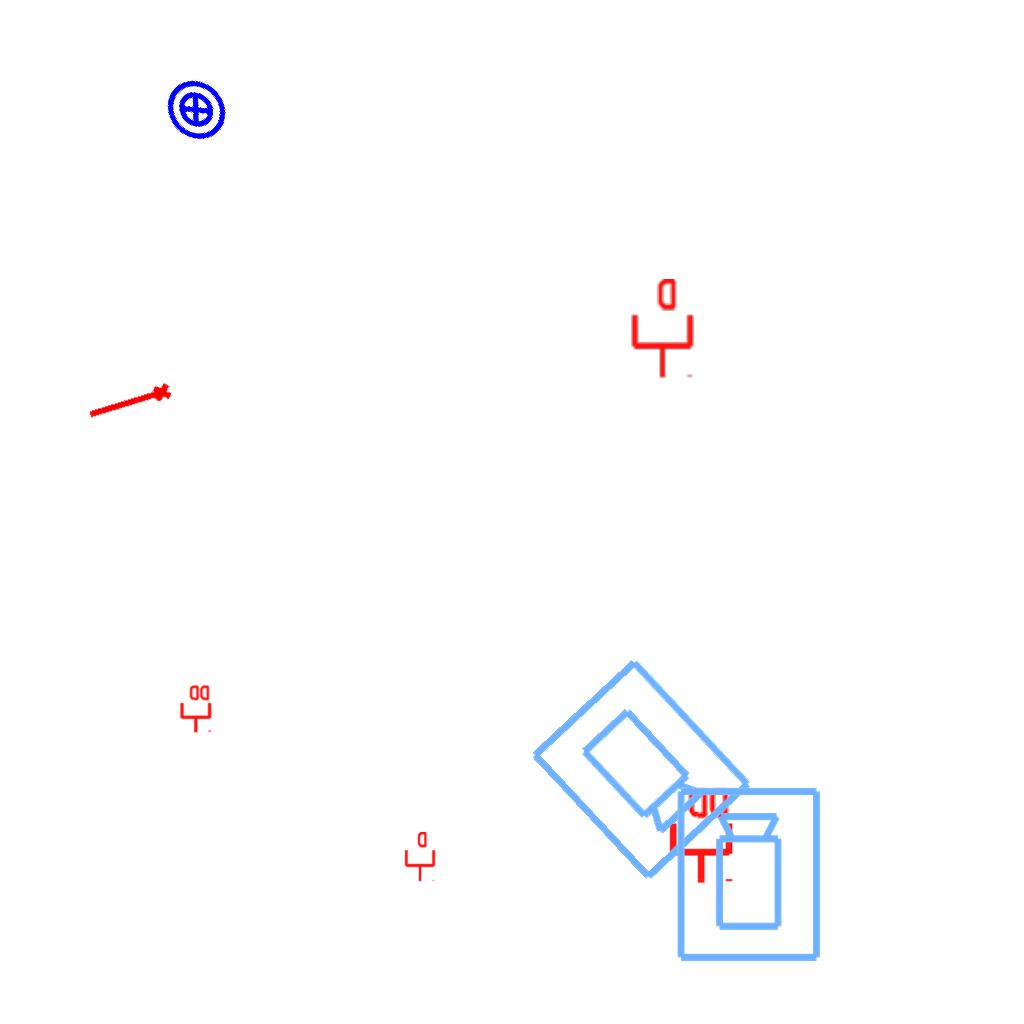ASR_Ansaugoeffnung: (84, 379, 176, 428)
Datenanschluss_einfach: (628, 279, 697, 379), (403, 832, 437, 882)
Datenanschluss_zweifach: (665, 783, 734, 886), (178, 683, 212, 734)
KFO_Kamera_mit_Festobjektiv: (521, 650, 759, 890), (673, 784, 827, 966)
Taster_beleuchtet: (149, 63, 243, 157)
